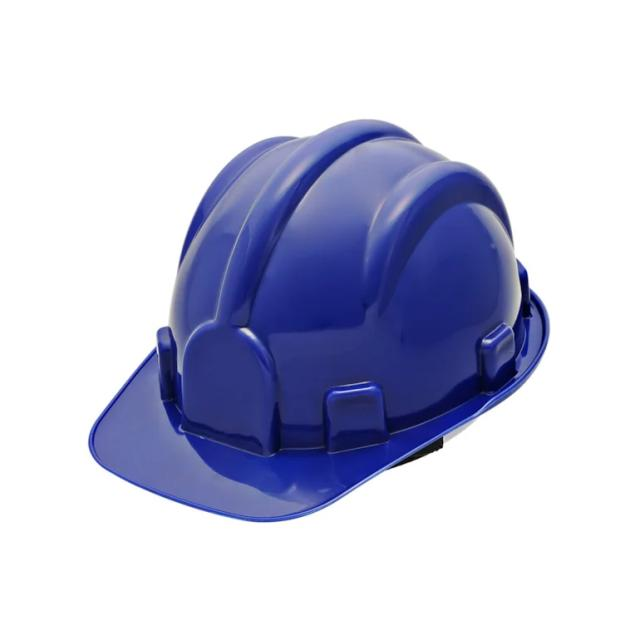CAPACETE: (76, 117, 563, 524)
